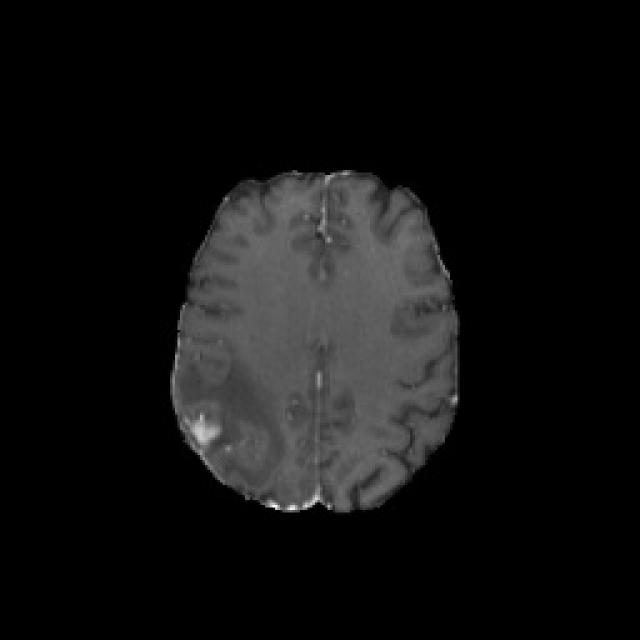positive: (189, 419, 226, 446)
